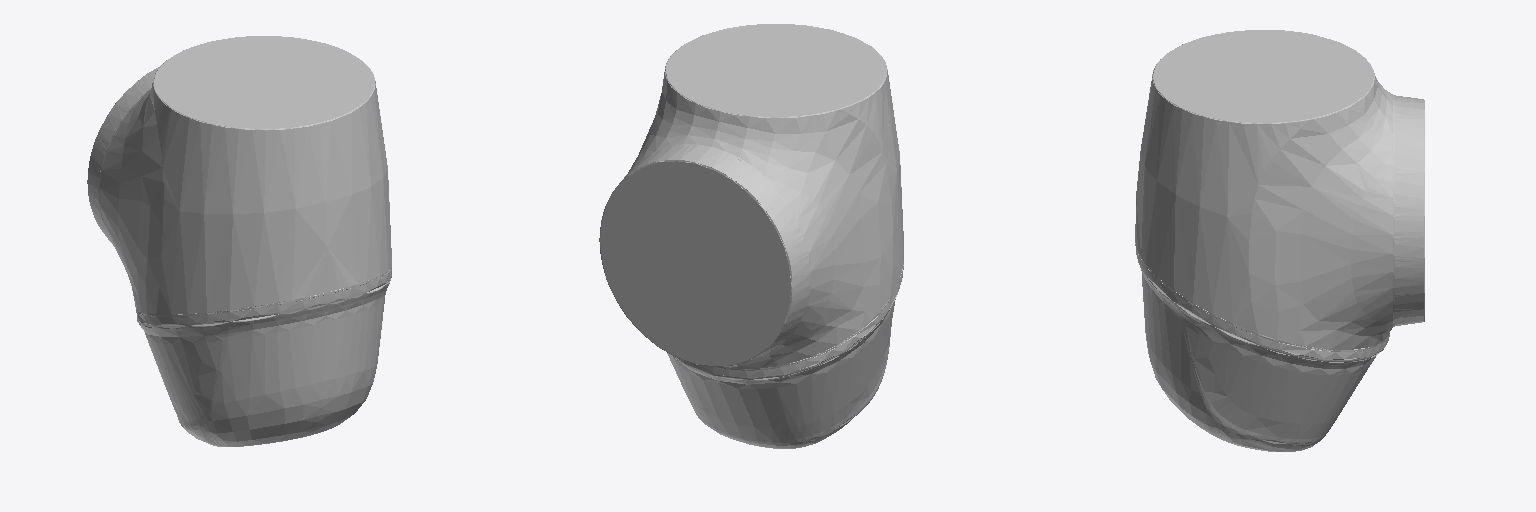
The picture shows the model from 3 angles: view 1: azimuth 30°, elevation 25°; view 2: azimuth 150°, elevation 25°; view 3: azimuth 270°, elevation 25°; orthographic projection.
Parts seen in each view (by area): view 1: 3DGeom-1; view 2: 3DGeom-1; view 3: 3DGeom-1.
Boxes of the visible parts, box(x1,y1,x2,y2) form: 3DGeom-1: box(87, 36, 391, 446); 3DGeom-1: box(599, 24, 903, 448); 3DGeom-1: box(1135, 30, 1424, 451).
Size of the model in its own units: 0.1004 by 0.1551 by 0.1133.